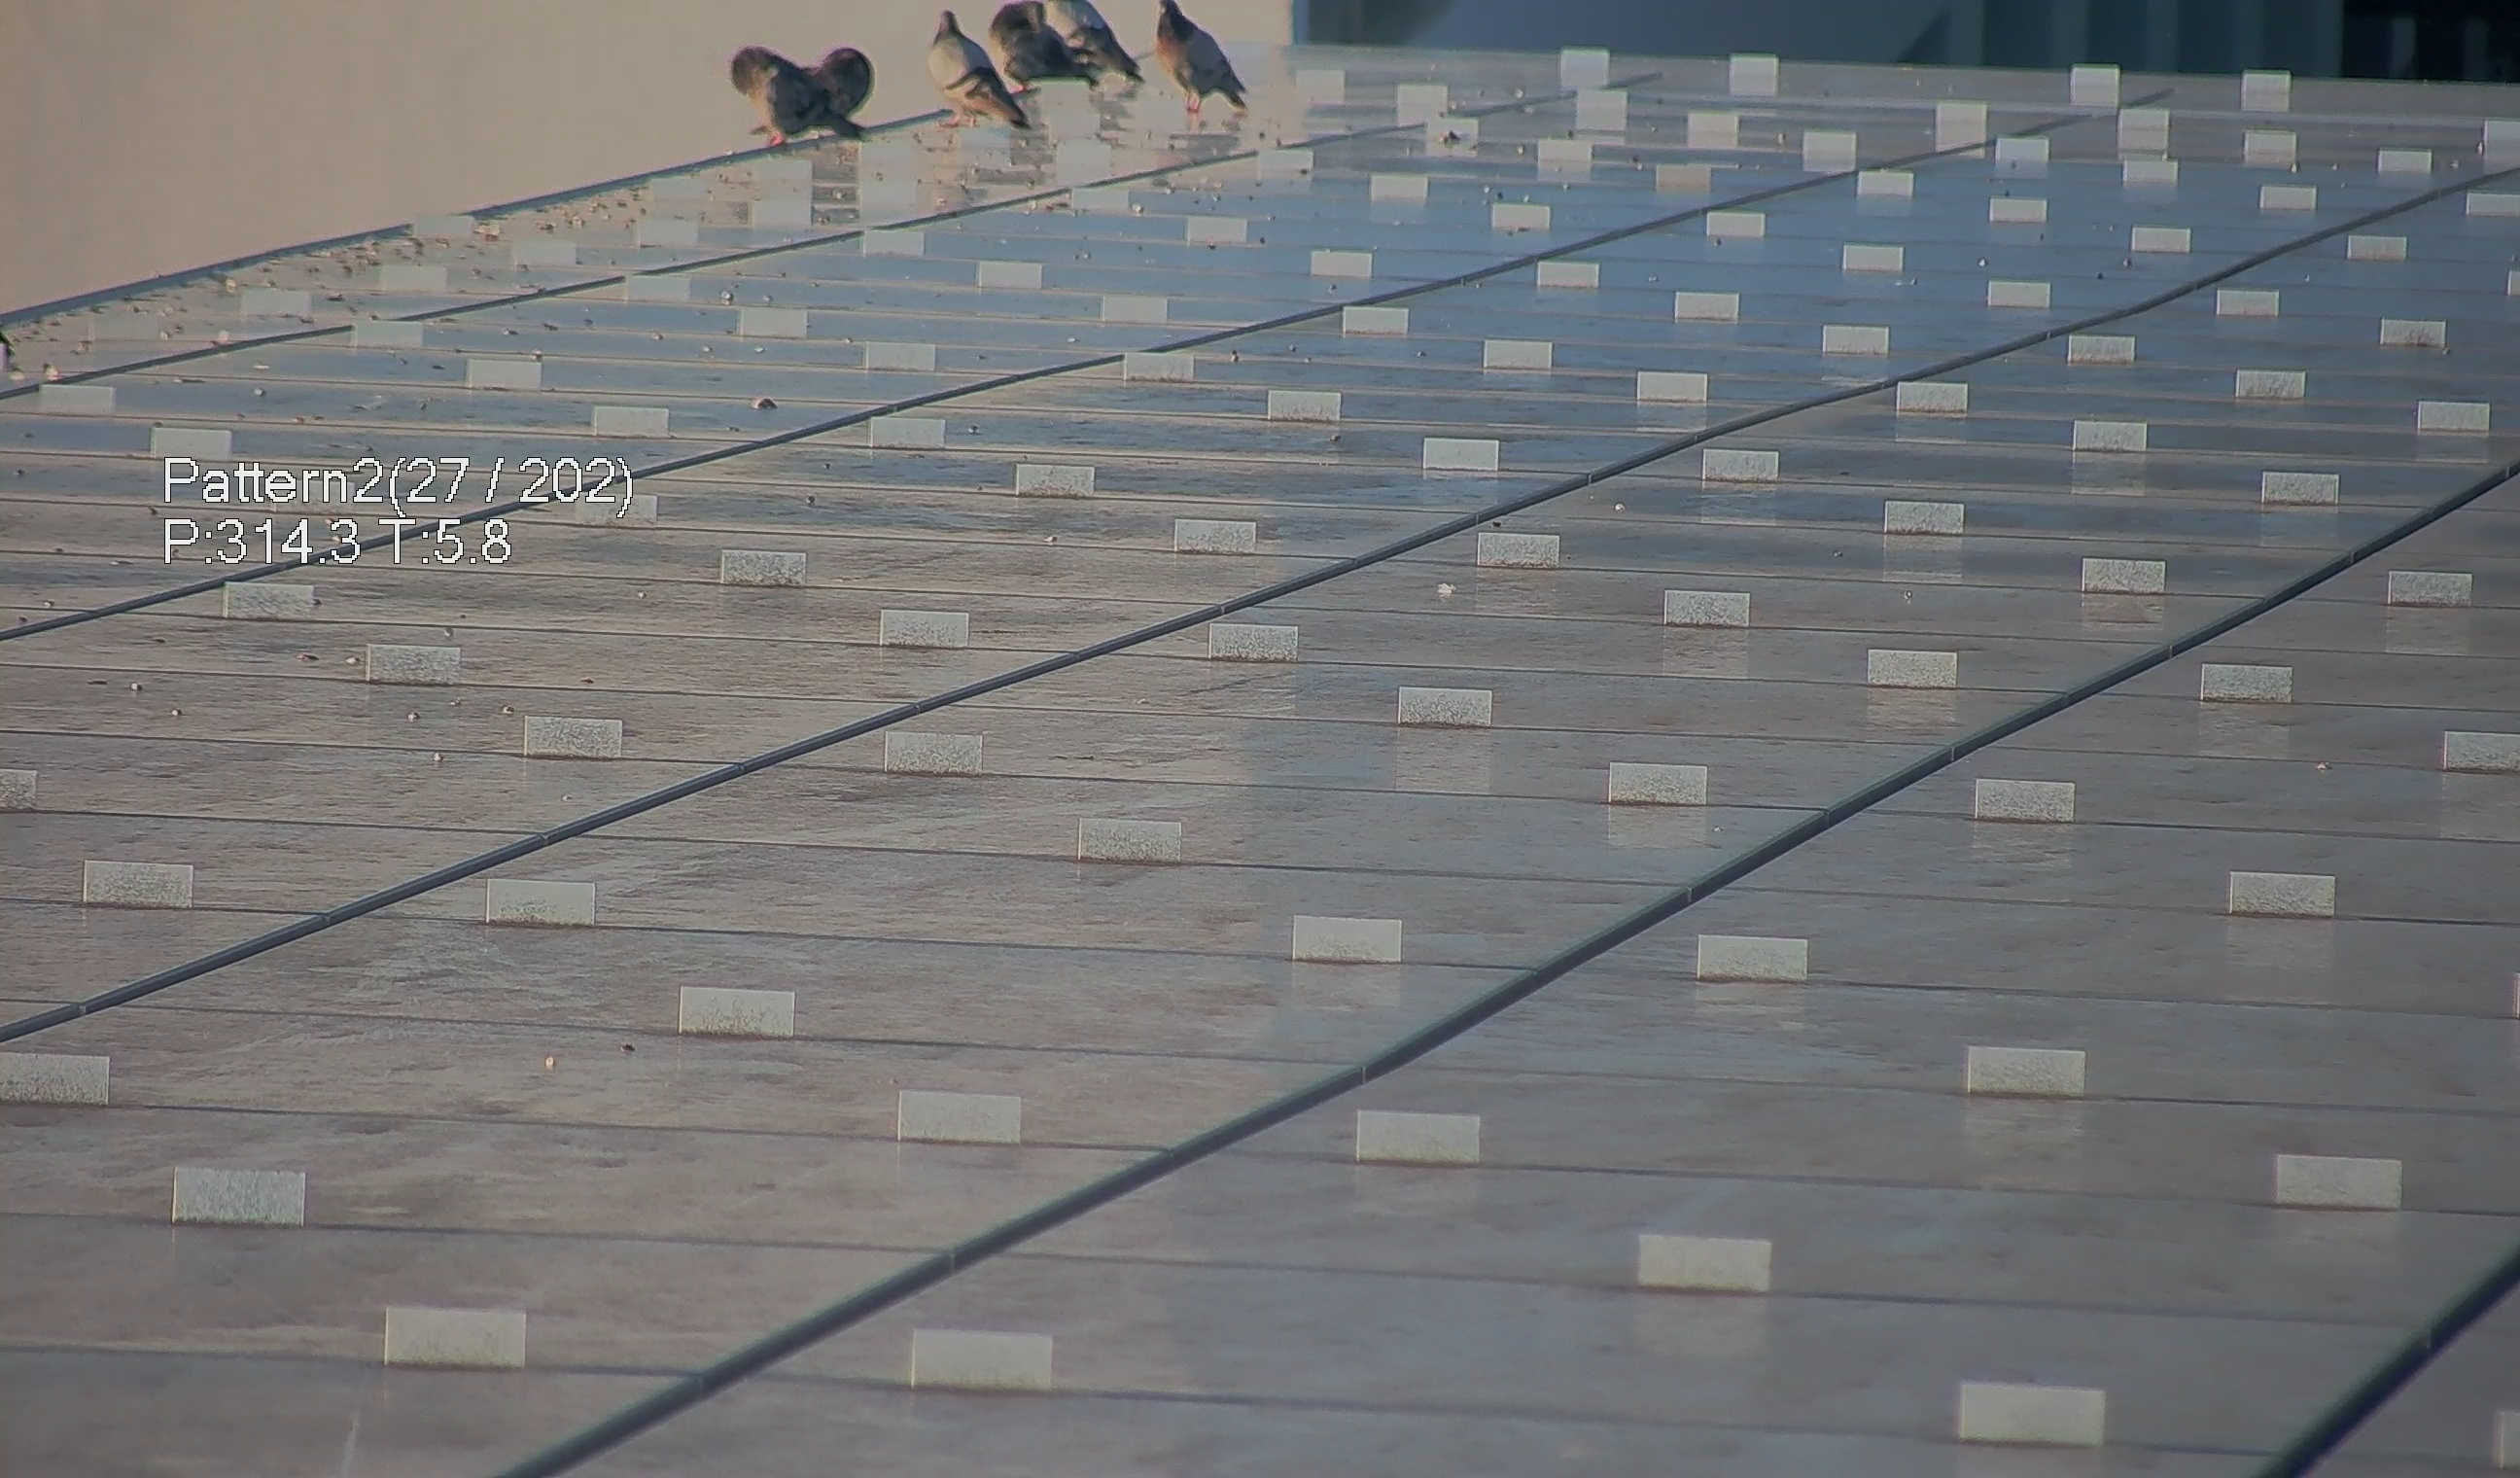Pigeon: (707, 25, 881, 151), (923, 7, 1036, 137), (1140, 2, 1252, 116), (1004, 2, 1145, 91)
